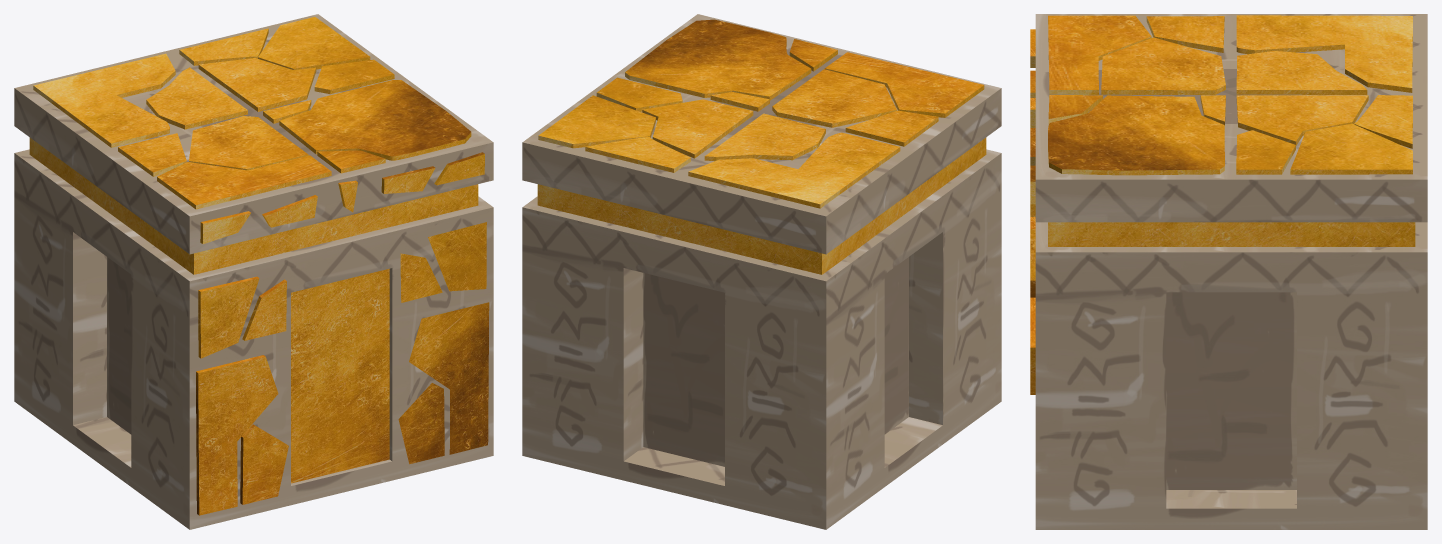
The model's file is bloc1x1_up-front.FBX.
3 renders of one model, left to right at view 1: azimuth 30°, elevation 25°; view 2: azimuth 150°, elevation 25°; view 3: azimuth 270°, elevation 25°, orthographic. The views are drawn at different scales.
Parts seen in each view (by area): view 1: bloc1x1_01; view 2: bloc1x1_01; view 3: bloc1x1_01.
Boxes of the visible parts, x1,y1,x2,y2 form: bloc1x1_01: [14, 14, 493, 529]; bloc1x1_01: [522, 14, 1001, 529]; bloc1x1_01: [1030, 14, 1427, 529].
Bounding box in the file's own units: 39.37 × 39.37 × 39.9.
